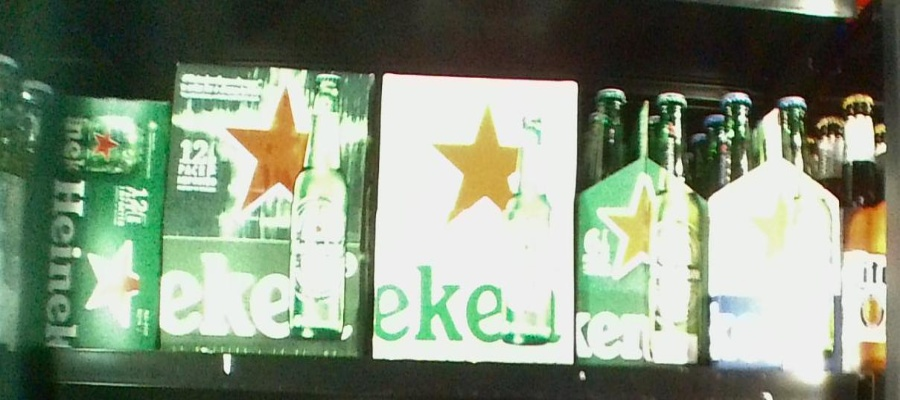bottle: (170, 57, 368, 358), (381, 67, 573, 365), (710, 87, 837, 369), (580, 88, 706, 368), (36, 93, 165, 352)
